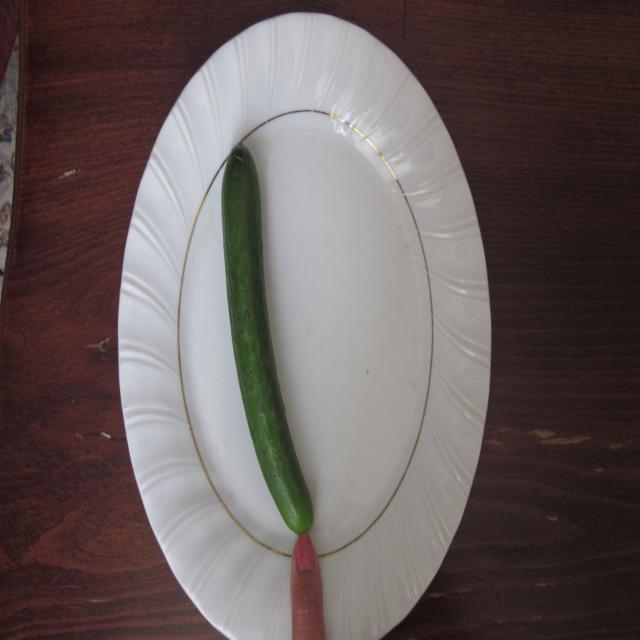cucumber: (222, 137, 346, 541)
